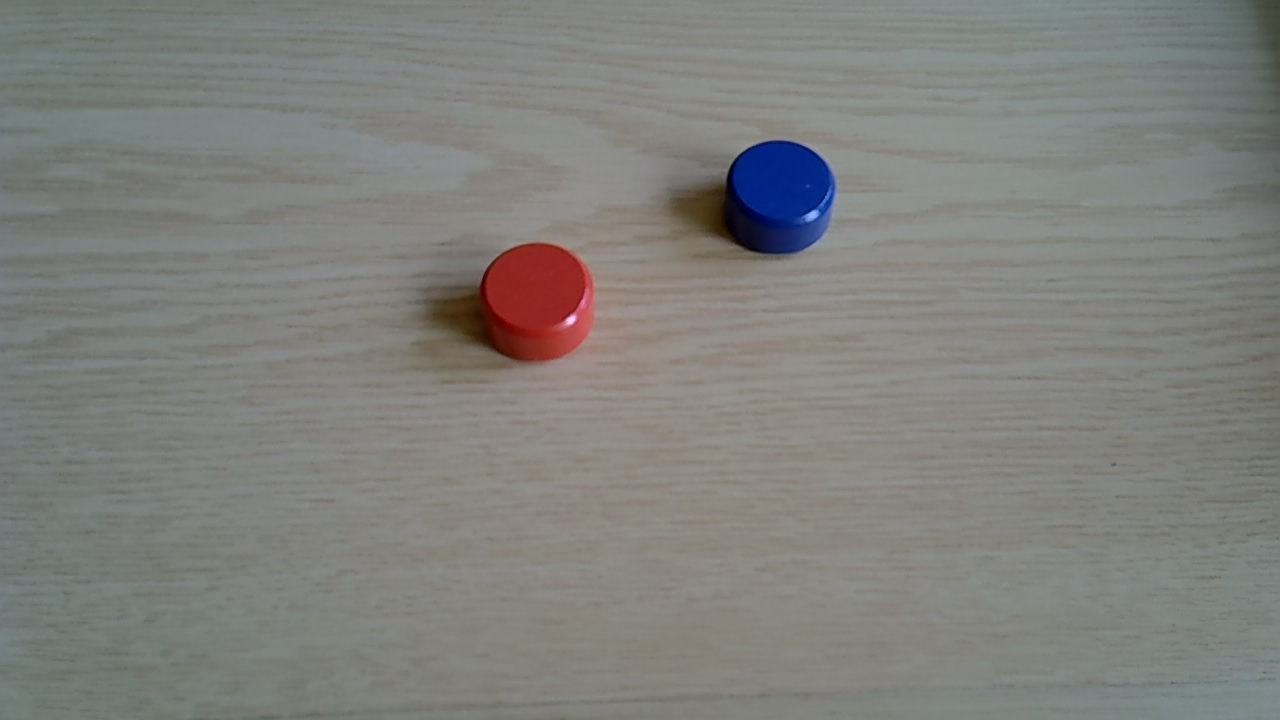WerkStueck: (478, 242, 597, 362), (726, 140, 838, 257)
